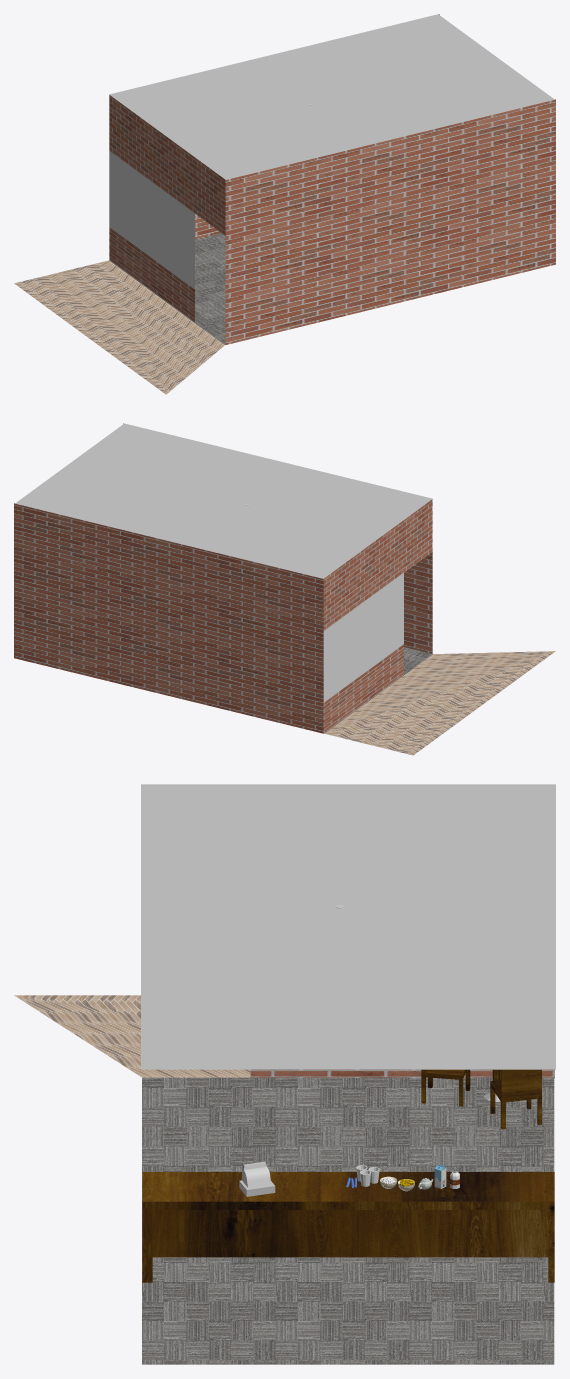
The model's file is CafeInterior.fbx.
3 views of the same model, one above another, from view 1: azimuth 30°, elevation 25°; view 2: azimuth 150°, elevation 25°; view 3: azimuth 270°, elevation 25° (orthographic). The views are drawn at different scales.
Parts seen in each view (by area): view 1: Left_Wall, Ceiling, Shop_Front, Floor; view 2: Right_Wall, Ceiling, Shop_Front, Floor, Left_Wall; view 3: Ceiling, Floor, Counter, Chair_2, Shop_Front, Till, Chair_1.
Boxes of the visible parts, x1=… form: Left_Wall: x1=225, y1=99, x2=555, y2=344; Ceiling: x1=109, y1=14, x2=554, y2=179; Shop_Front: x1=109, y1=95, x2=225, y2=322; Floor: x1=14, y1=233, x2=225, y2=394; Right_Wall: x1=14, y1=503, x2=323, y2=733; Ceiling: x1=15, y1=423, x2=432, y2=578; Shop_Front: x1=323, y1=499, x2=432, y2=733; Floor: x1=324, y1=647, x2=555, y2=755; Left_Wall: x1=123, y1=423, x2=432, y2=653; Ceiling: x1=141, y1=784, x2=555, y2=1069; Floor: x1=14, y1=995, x2=554, y2=1364; Counter: x1=142, y1=1172, x2=554, y2=1282; Chair_2: x1=490, y1=1069, x2=541, y2=1129; Shop_Front: x1=250, y1=1069, x2=554, y2=1078; Till: x1=239, y1=1161, x2=275, y2=1196; Chair_1: x1=421, y1=1069, x2=470, y2=1106.
Size of the model in its own units: 180 by 66.94 by 112.
